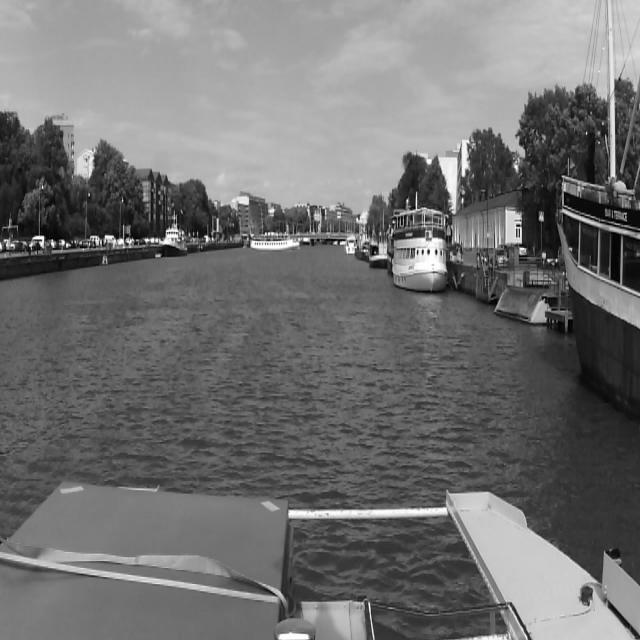ship: (388, 189, 458, 295), (249, 220, 300, 252), (158, 208, 188, 258), (369, 198, 389, 271), (355, 218, 369, 262), (345, 233, 357, 255)
